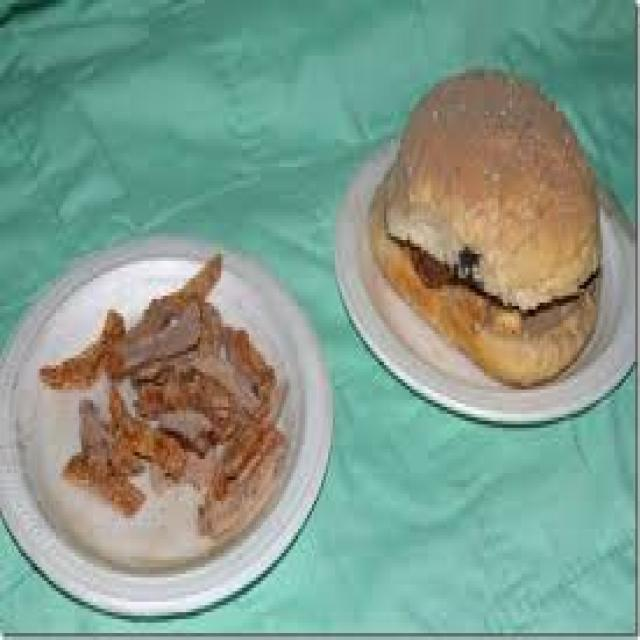Burger: (365, 49, 605, 396)
French Fries: (33, 244, 286, 546)
